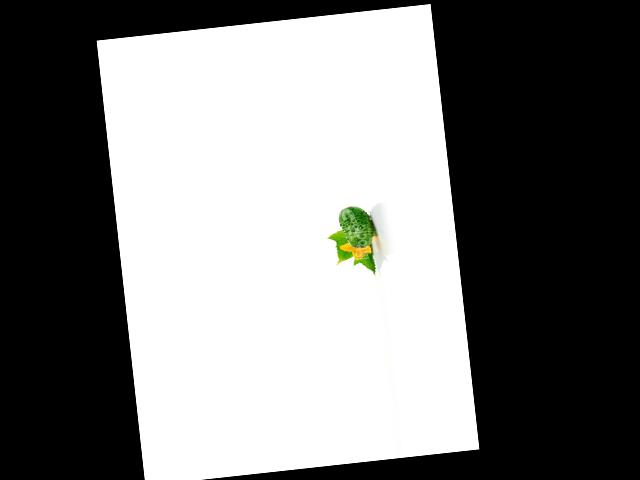cucumber: (337, 204, 375, 249)
